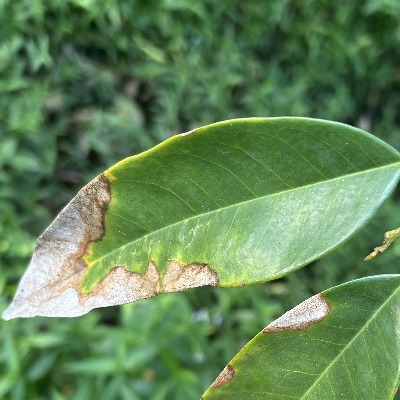Leaf_Colletotrichum: (2, 115, 400, 325)
